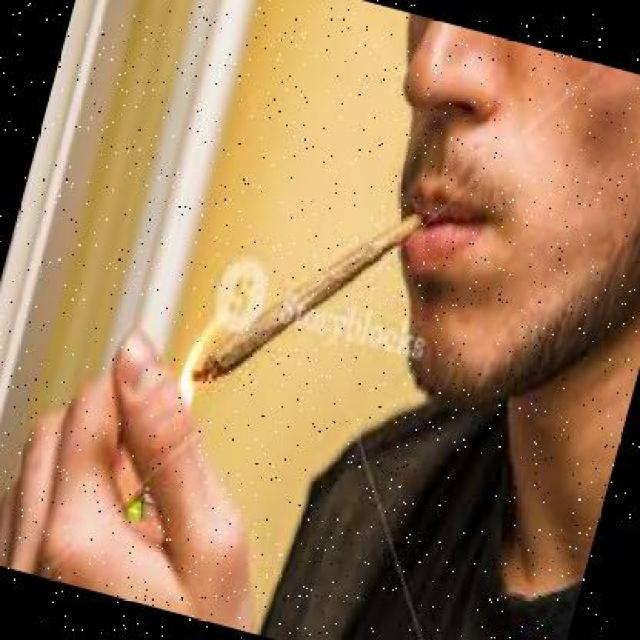fire: (158, 308, 234, 422)
